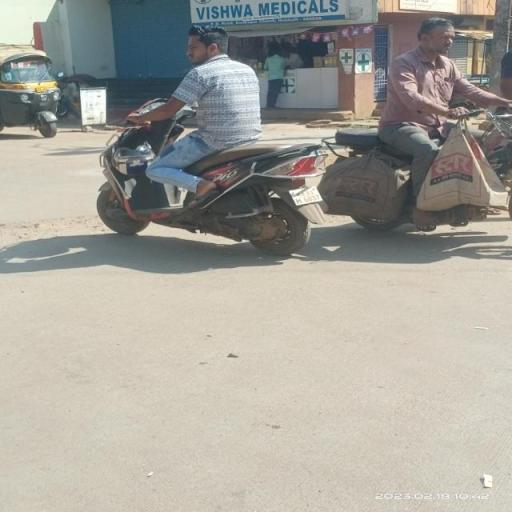bike: (90, 23, 342, 258)
withouthelmet: (186, 27, 227, 62)
